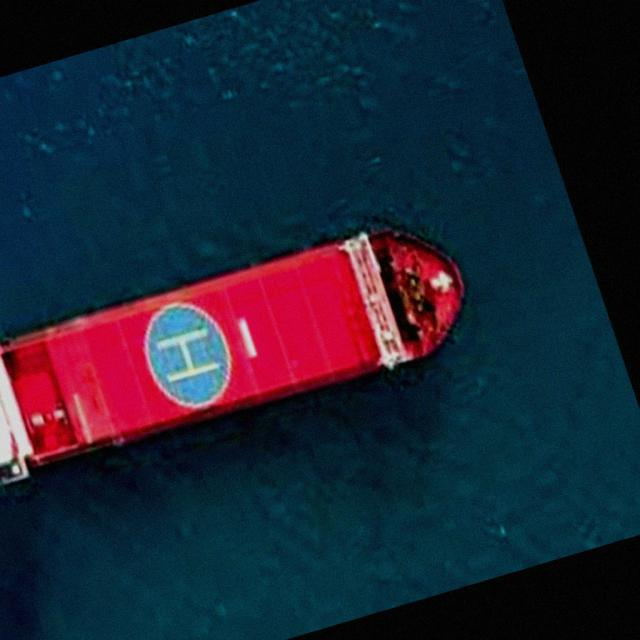helipad: (140, 297, 234, 412)
